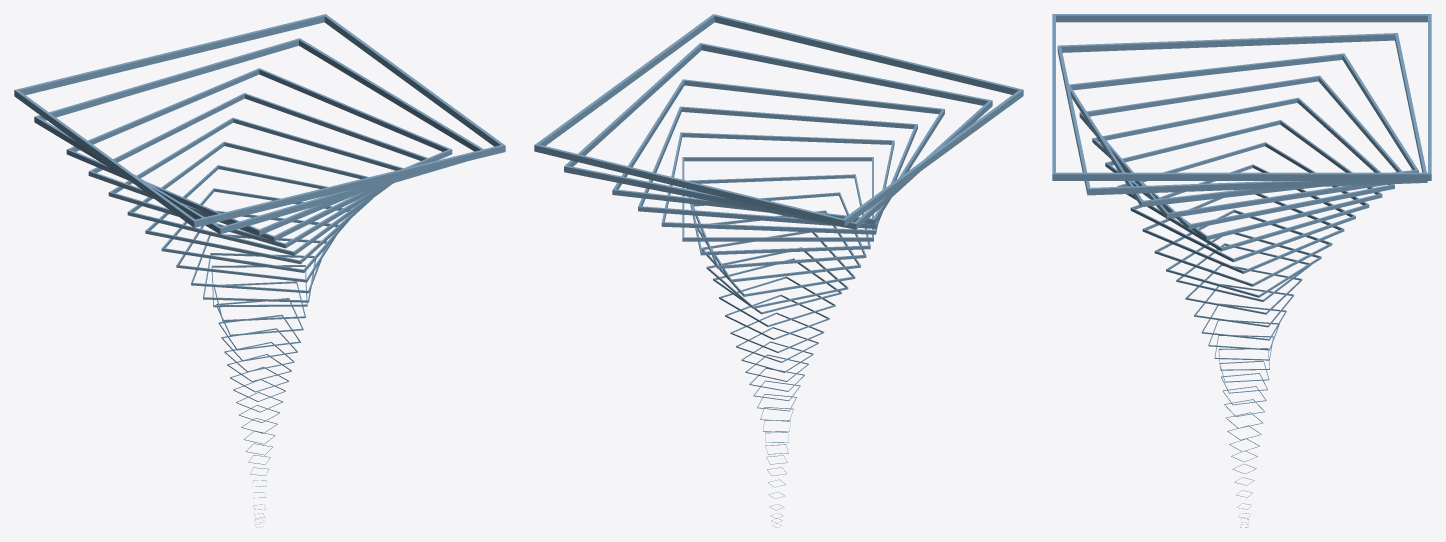
The model's file is 3d_spiral.glb.
3 renders of one model, left to right at view 1: azimuth 30°, elevation 25°; view 2: azimuth 150°, elevation 25°; view 3: azimuth 270°, elevation 25°, orthographic. The views are drawn at different scales.
Visible parts, largest first — view 1: Object_2; view 2: Object_2; view 3: Object_2.
Boxes of the visible parts, box(x1,y1,x2,y2) form: Object_2: box(14, 14, 505, 527); Object_2: box(534, 14, 1023, 527); Object_2: box(1052, 14, 1431, 527).
Bounding box in the file's own units: 102 × 128 × 102.
